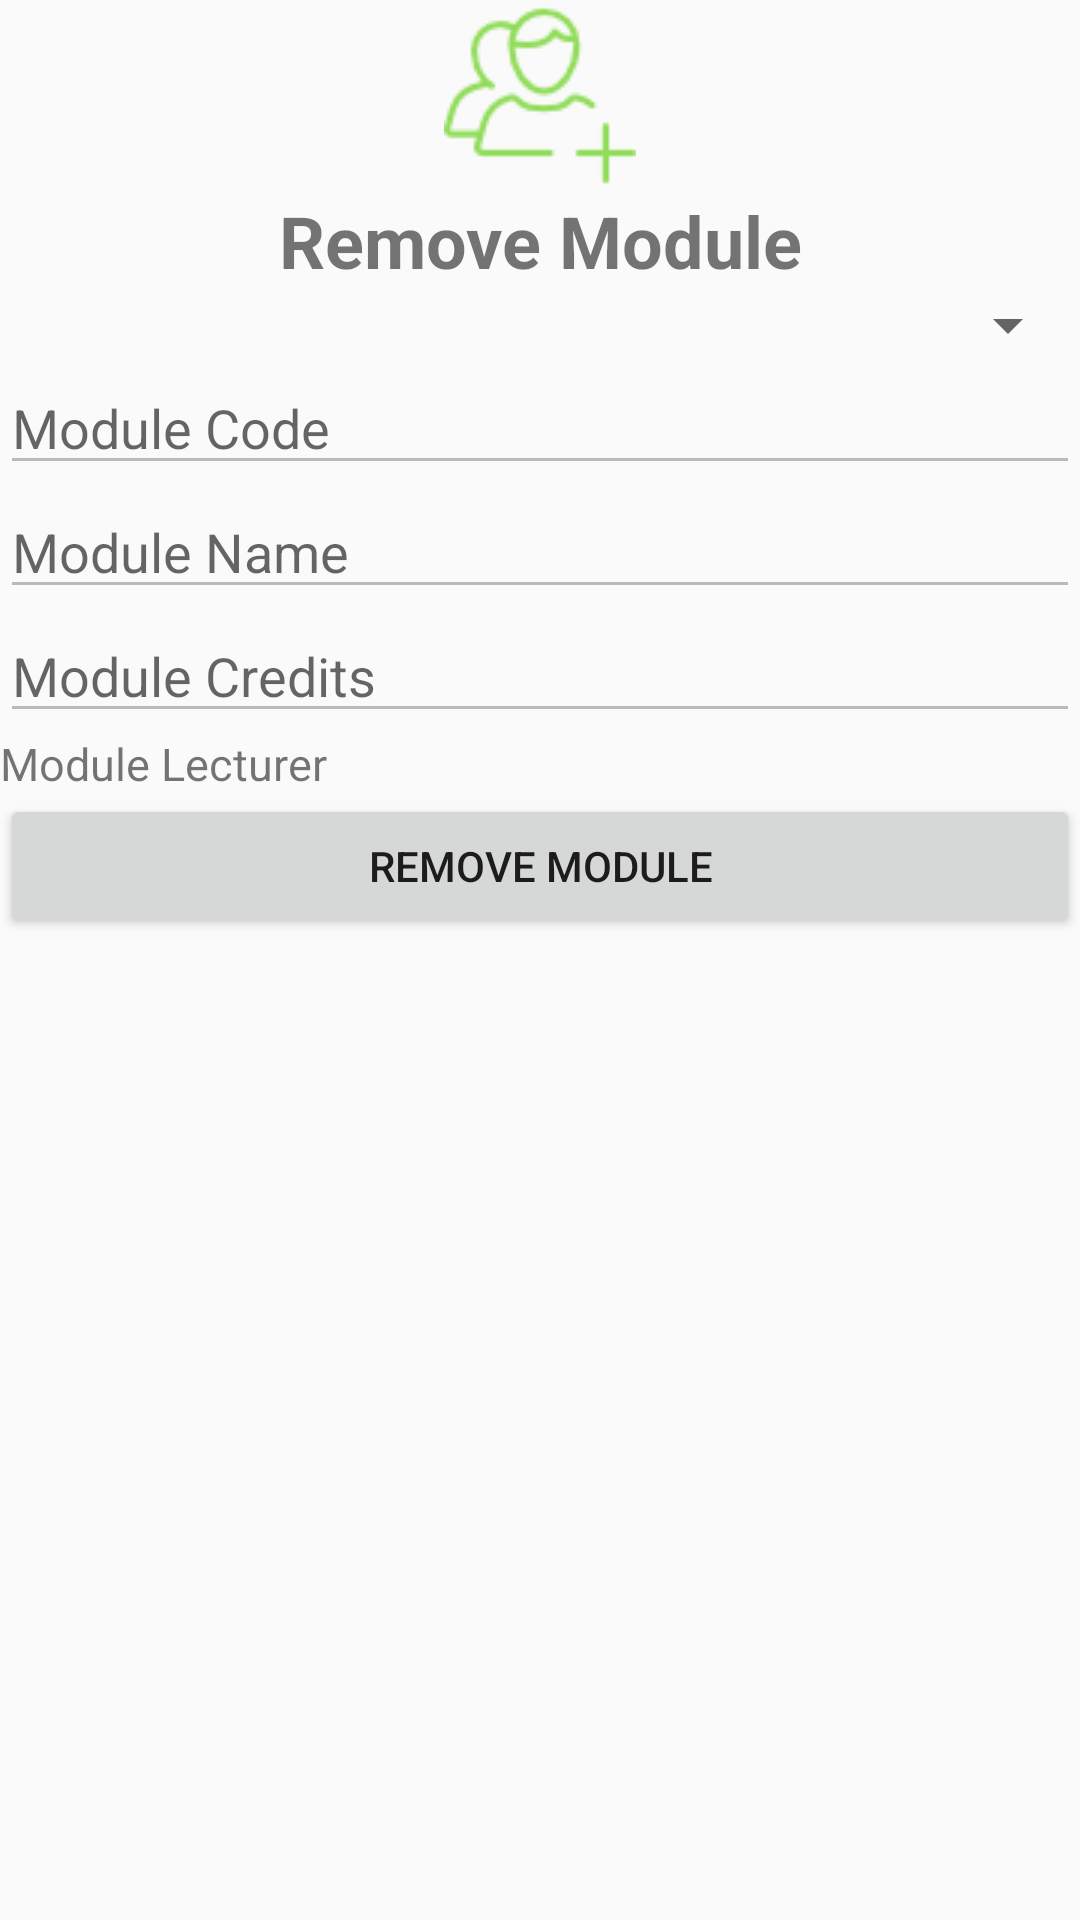

Screen size 1080x1920. Icon name, then its center in pixels as (x=x, y=y):
adduser: (x=540, y=96)
